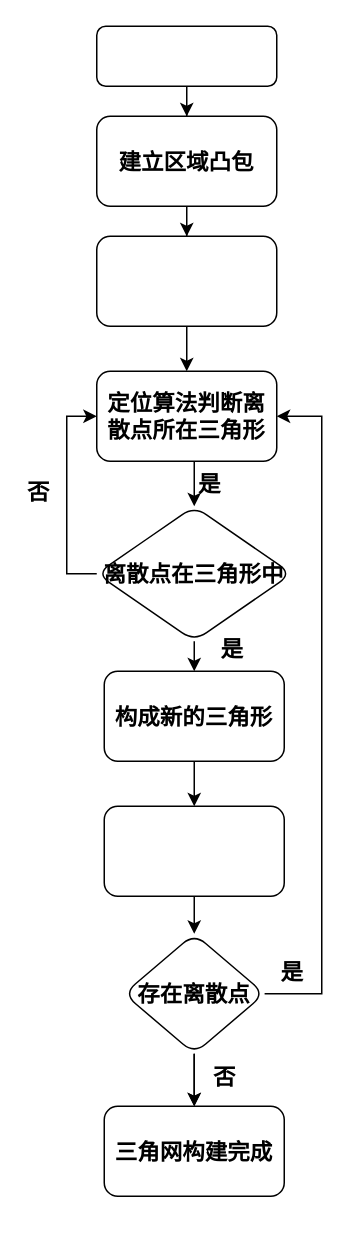
Some shapes in this 360 by 1235 pixel diagram are drawn without their labels. The box of each missing label's shape, as (x1, y1, x2, y2) in pixels:
LOP算法优化: (103, 805, 284, 896)
初始数据: (95, 25, 277, 86)
构建初始三角网: (95, 235, 277, 326)
